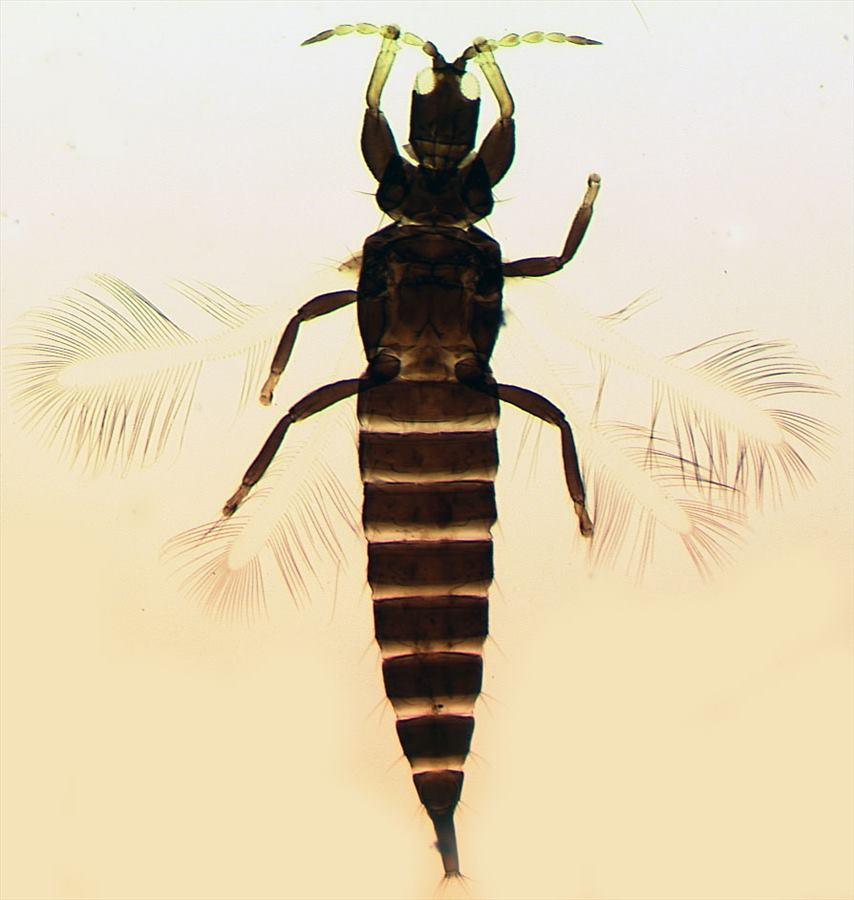Phlaeothripidae: (6, 33, 829, 887)
